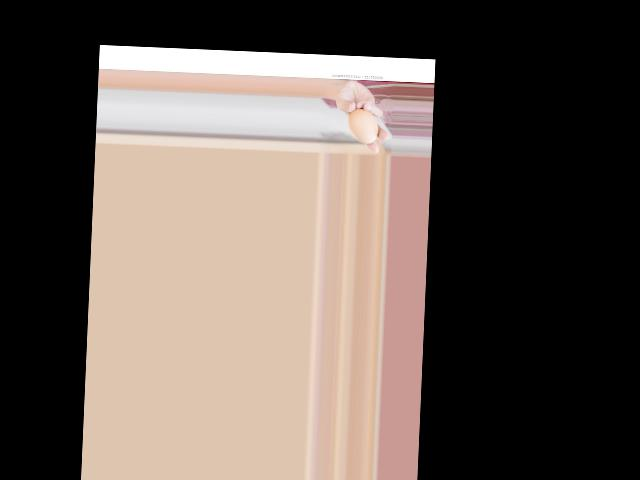egg: (348, 108, 379, 144)
